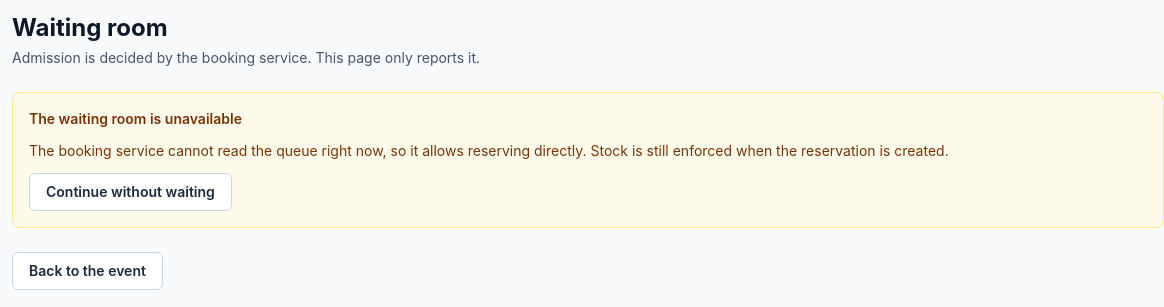
waiting room › offers the direct reservation path when the waiting room answers 503
expect the text "The waiting room is unavailable" is shown: met, box [29,110,242,127]
Click the link "Continue without waiting".
click(130, 192)  # box [29,173,232,211]
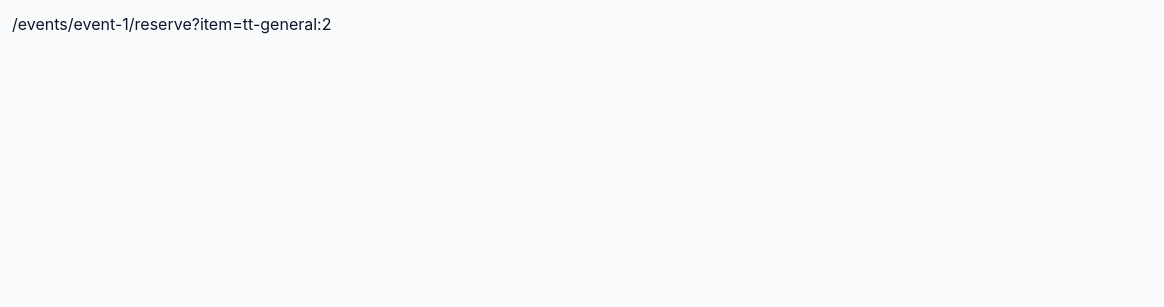
expect the text with test id "location" reads "/events/event-1/reserve?item=tt-general:2": met, box [12,14,332,34]
